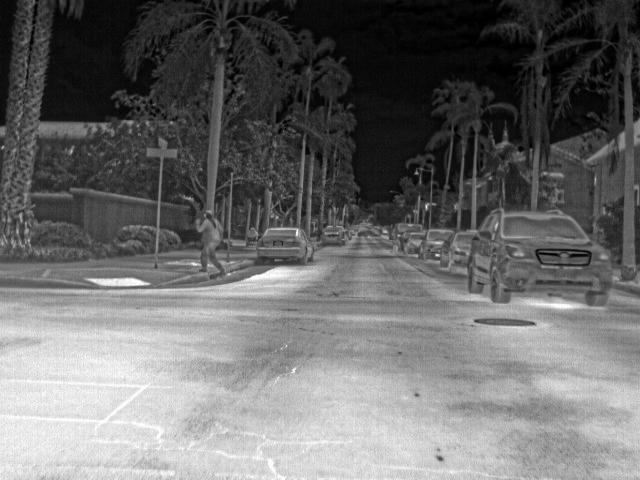car: (469, 207, 613, 307), (257, 226, 315, 266), (440, 230, 477, 272), (419, 227, 454, 261), (389, 221, 422, 254), (401, 231, 423, 256), (322, 227, 343, 245), (357, 228, 381, 239), (338, 227, 352, 241), (375, 225, 388, 236)
person: (198, 208, 225, 275), (246, 226, 260, 236)
